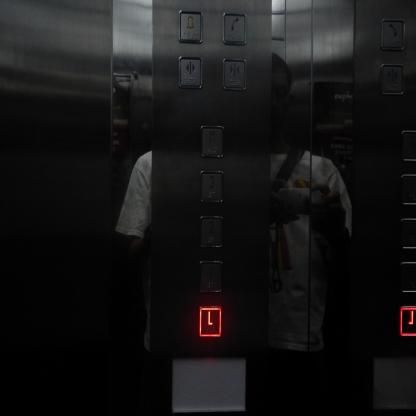1: (198, 260, 223, 294)
2: (198, 214, 224, 249)
3: (199, 170, 224, 204)
L: (198, 305, 221, 337)
M: (199, 124, 226, 158)
alarm: (178, 10, 203, 44)
call: (223, 13, 247, 46)
close: (223, 58, 247, 91)
open: (178, 54, 203, 88)
